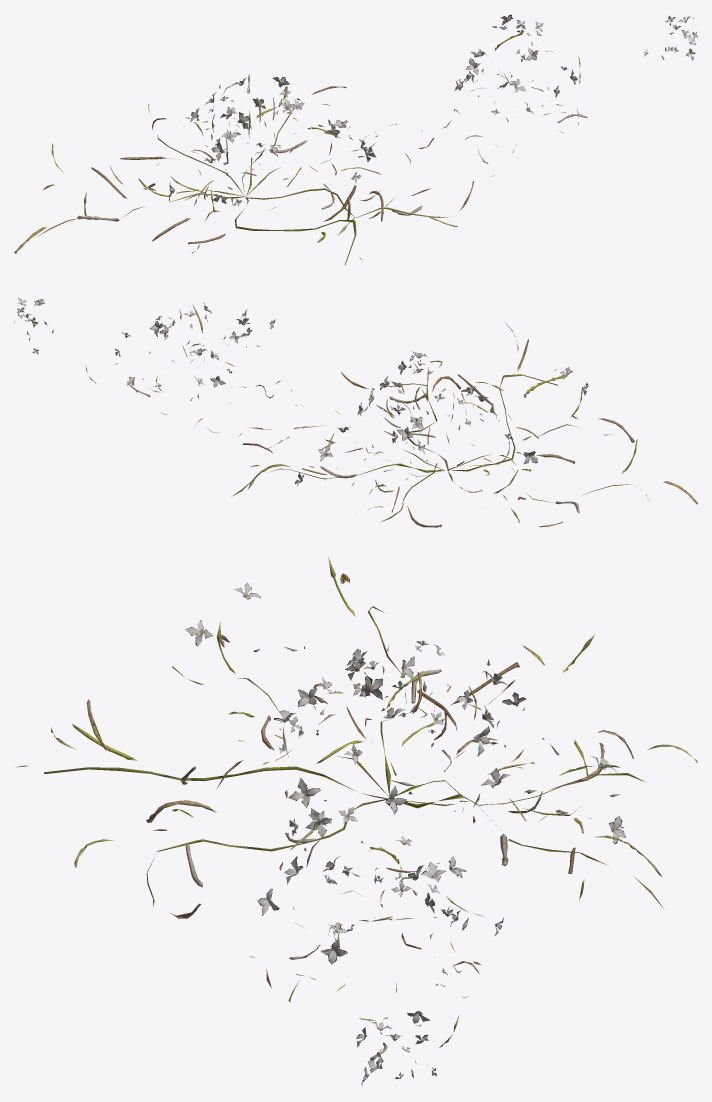
File: flower_heliophila.glb
3 renders of one model, top to bottom at view 1: azimuth 30°, elevation 25°; view 2: azimuth 150°, elevation 25°; view 3: azimuth 270°, elevation 25°, orthographic. The views are drawn at different scales.
Parts seen in each view (by area): view 1: flower_heliophila_large; view 2: flower_heliophila_large; view 3: flower_heliophila_large.
Boxes of the visible parts, x1=… form: flower_heliophila_large: x1=14, y1=14, x2=697, y2=265; flower_heliophila_large: x1=14, y1=297, x2=697, y2=527; flower_heliophila_large: x1=16, y1=557, x2=697, y2=1086.
Size of the model in its own units: 2.59 by 0.395 by 1.37.
Materials: 1 (1 with a texture image).
